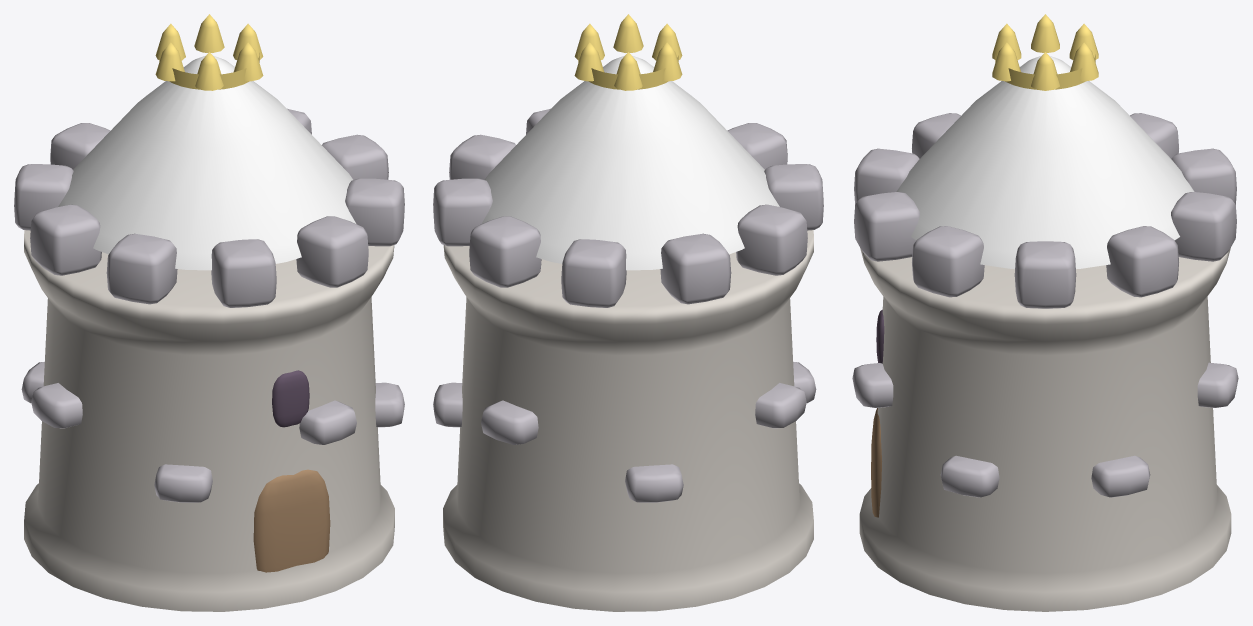
The model's file is king_tower.glb.
3 renders of one model, left to right at view 1: azimuth 30°, elevation 25°; view 2: azimuth 150°, elevation 25°; view 3: azimuth 270°, elevation 25°, orthographic.
Parts seen in each view (by area): view 1: Base, Roof; view 2: Base, Roof; view 3: Base, Roof.
Boxes of the visible parts, x1,y1,x2,y2 form: Base: (14,14,404,611); Roof: (58,55,356,270); Base: (433,14,823,611); Roof: (481,55,779,270); Base: (852,14,1238,611); Roof: (896,55,1194,268).
Size of the model in its own units: 2.81 by 3.96 by 2.77.
